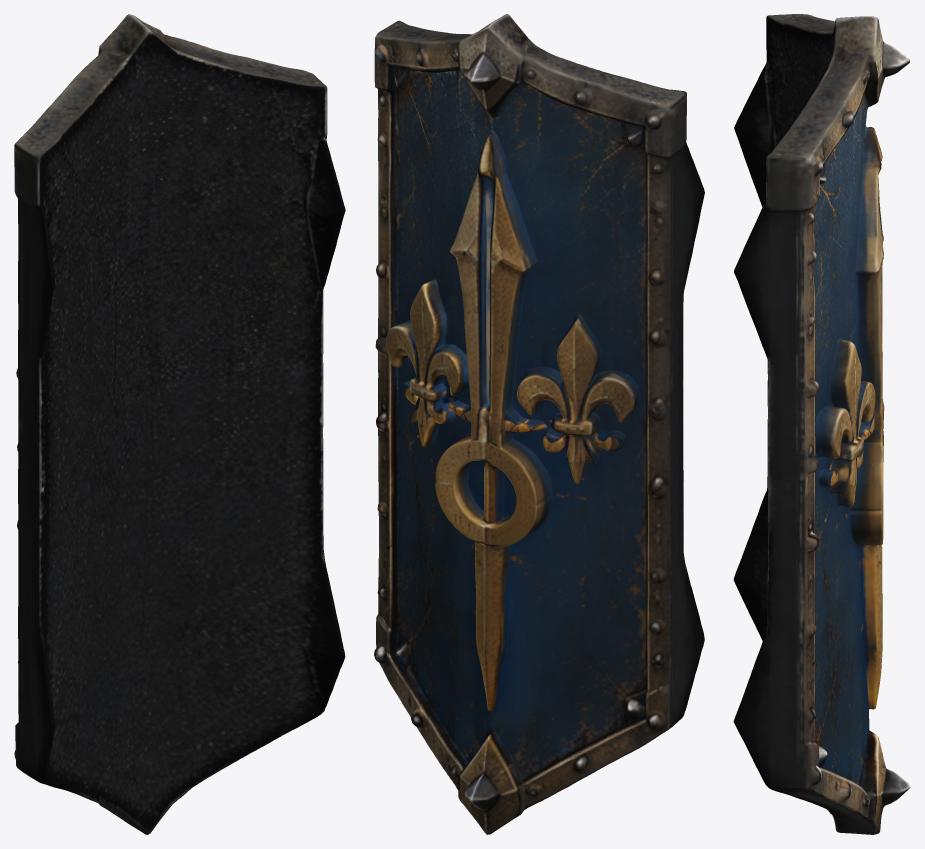
Rendered from tower_lancer.glb.
3 views of the same model, side by side, from view 1: azimuth 30°, elevation 25°; view 2: azimuth 150°, elevation 25°; view 3: azimuth 270°, elevation 25° (orthographic).
Parts seen in each view (by area): view 1: tower_lancer; view 2: tower_lancer; view 3: tower_lancer.
Boxes of the visible parts, box(x1,y1,x2,y2) form: tower_lancer: box(14, 14, 345, 834); tower_lancer: box(374, 14, 704, 834); tower_lancer: box(733, 14, 910, 834).
Size of the model in its own units: 0.4378 by 1.14 by 0.2239.
Materials: 1 (1 with a texture image).
